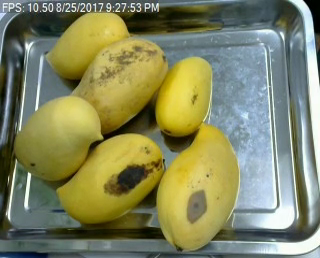Mango: (155, 122, 240, 253), (69, 36, 167, 135), (56, 133, 163, 222), (14, 93, 102, 181), (45, 11, 131, 82), (155, 55, 211, 134)
